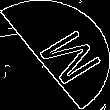M_SW: (16, 22, 94, 88)
